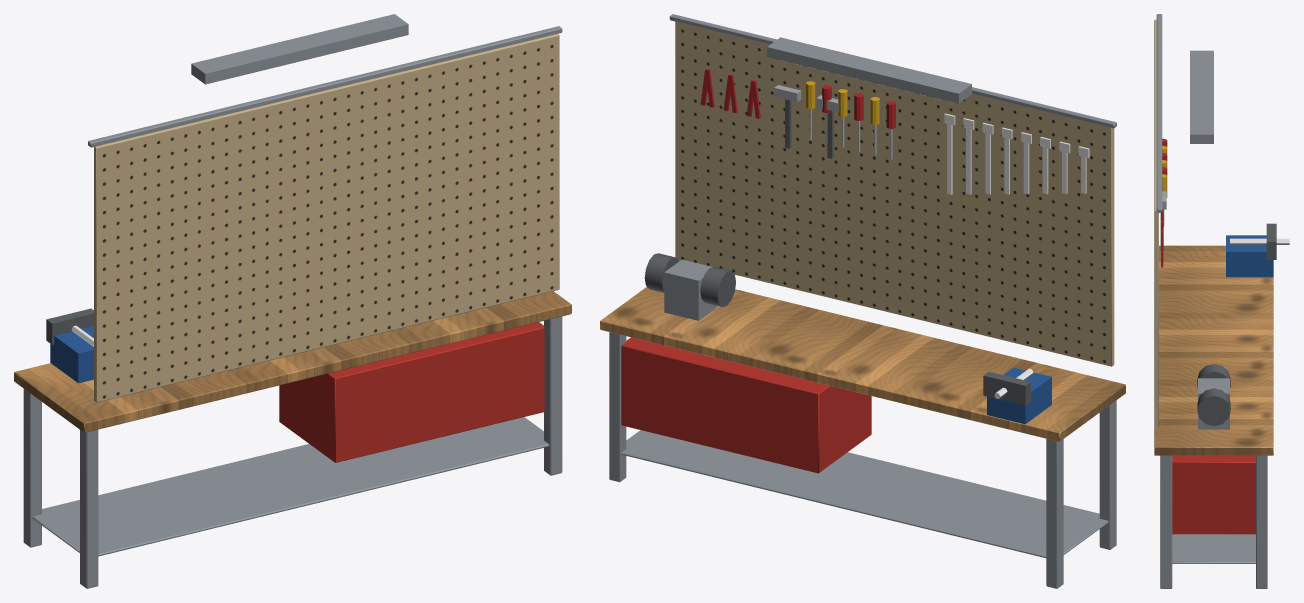
The model's file is tool_wall.glb.
The picture shows the model from 3 angles, left to right: view 1: azimuth 30°, elevation 25°; view 2: azimuth 150°, elevation 25°; view 3: azimuth 270°, elevation 25°; orthographic projection. The views are drawn at different scales.
Parts seen in each view (by area): view 1: tool_wall; view 2: tool_wall; view 3: tool_wall.
Part boxes in pixels (box(x1,y1,x2,y2)): tool_wall: box(14, 14, 571, 588); tool_wall: box(600, 14, 1125, 588); tool_wall: box(1154, 14, 1289, 588).
Bounding box in the file's own units: 12 × 11.02 × 3.4.
Materials: 11 (2 with a texture image).
